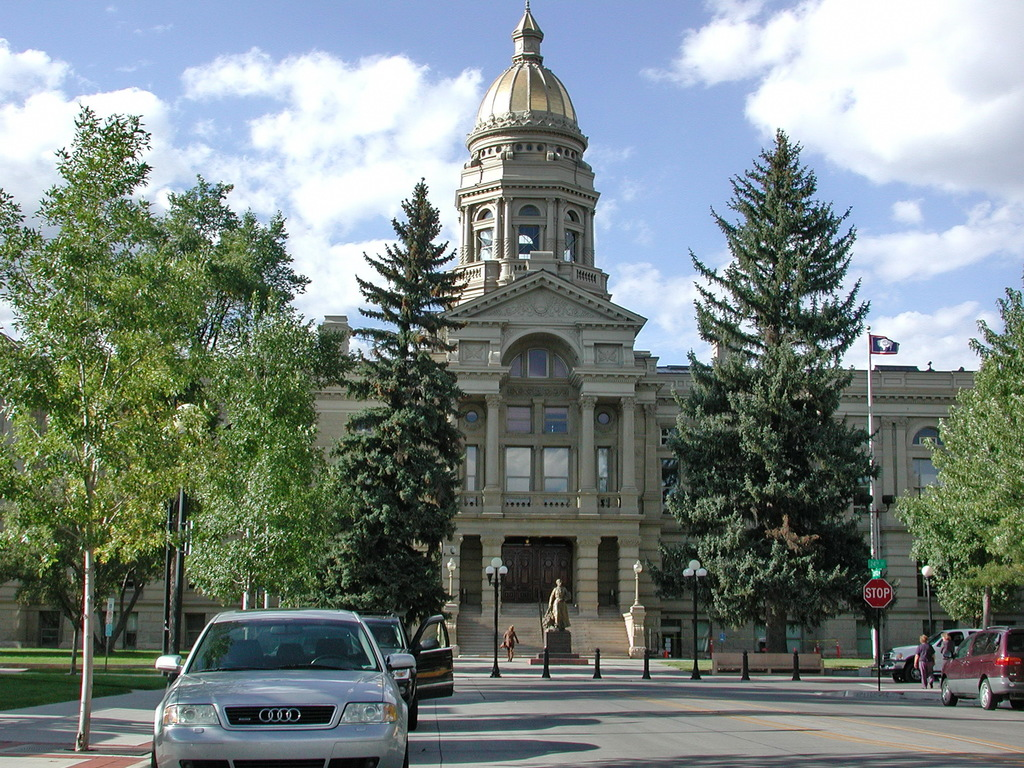Car: (149, 613, 414, 767), (363, 611, 455, 731), (936, 624, 1023, 710), (879, 626, 982, 683)
